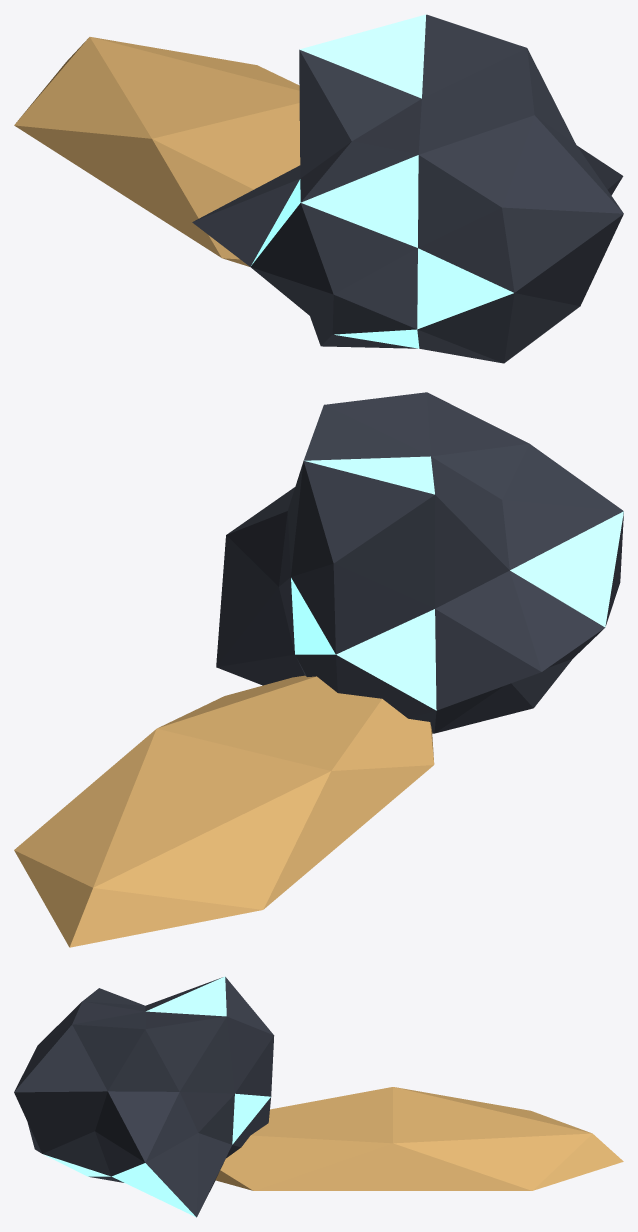
File: Nat_Meteorite_A.fbx
3 views of the same model, one above another, from view 1: azimuth 30°, elevation 25°; view 2: azimuth 150°, elevation 25°; view 3: azimuth 270°, elevation 25° (orthographic). The views are drawn at different scales.
Visible parts, largest first — view 1: Nat_Meteorite_A; view 2: Nat_Meteorite_A; view 3: Nat_Meteorite_A.
Boxes of the visible parts, <box> form: Nat_Meteorite_A: <box>14,14,623,363</box>; Nat_Meteorite_A: <box>14,392,623,947</box>; Nat_Meteorite_A: <box>14,976,623,1217</box>.
Bounding box in the file's own units: 1.11 × 0.7069 × 2.34.
